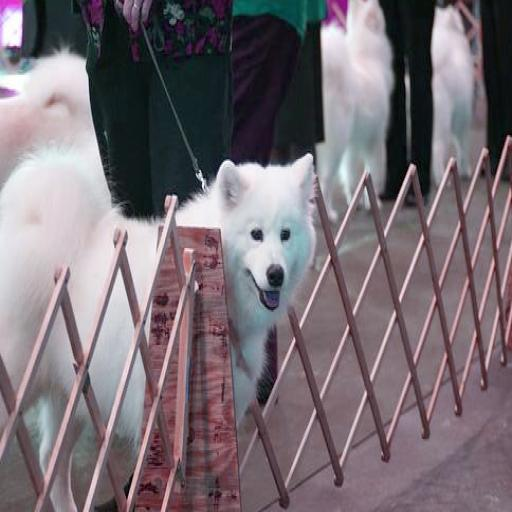dog_face: (218, 151, 319, 321)
